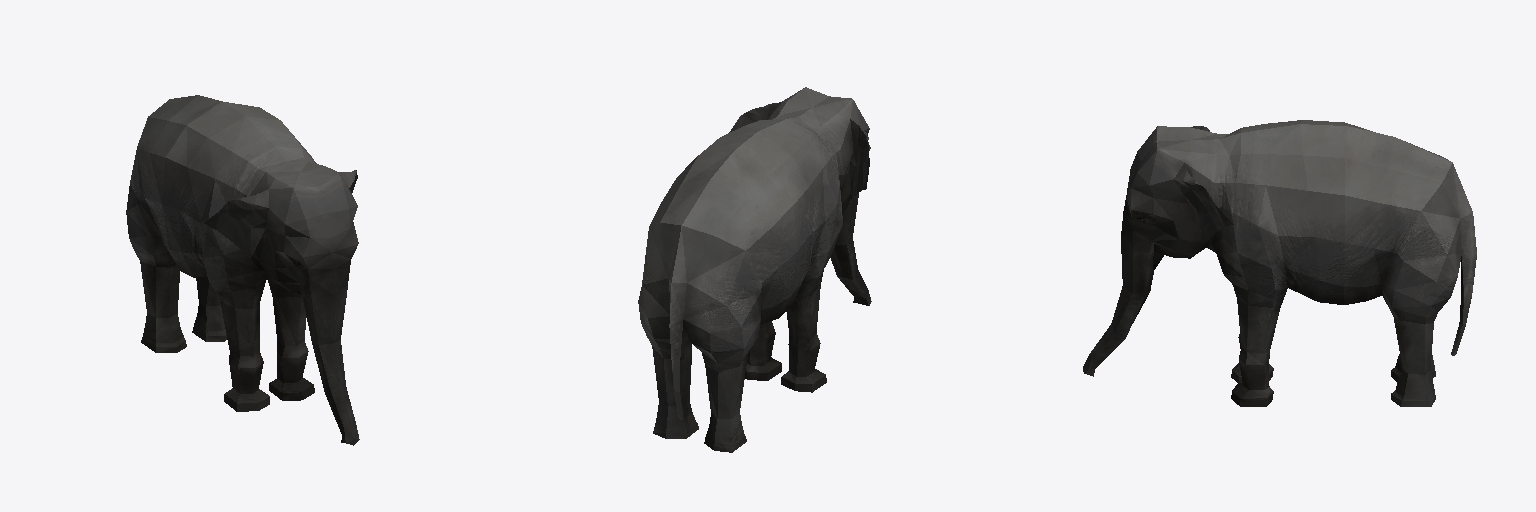
3 renders of one model, left to right at view 1: azimuth 30°, elevation 25°; view 2: azimuth 150°, elevation 25°; view 3: azimuth 270°, elevation 25°, orthographic.
Parts seen in each view (by area): view 1: Cube; view 2: Cube; view 3: Cube.
Part boxes in pixels (x1,y1,x2,y2): Cube: (126,95,359,445); Cube: (638,87,871,452); Cube: (1083,120,1476,406).
Bounding box in the file's own units: 3.47 × 5.78 × 7.83.
1 materials, 1 textured.